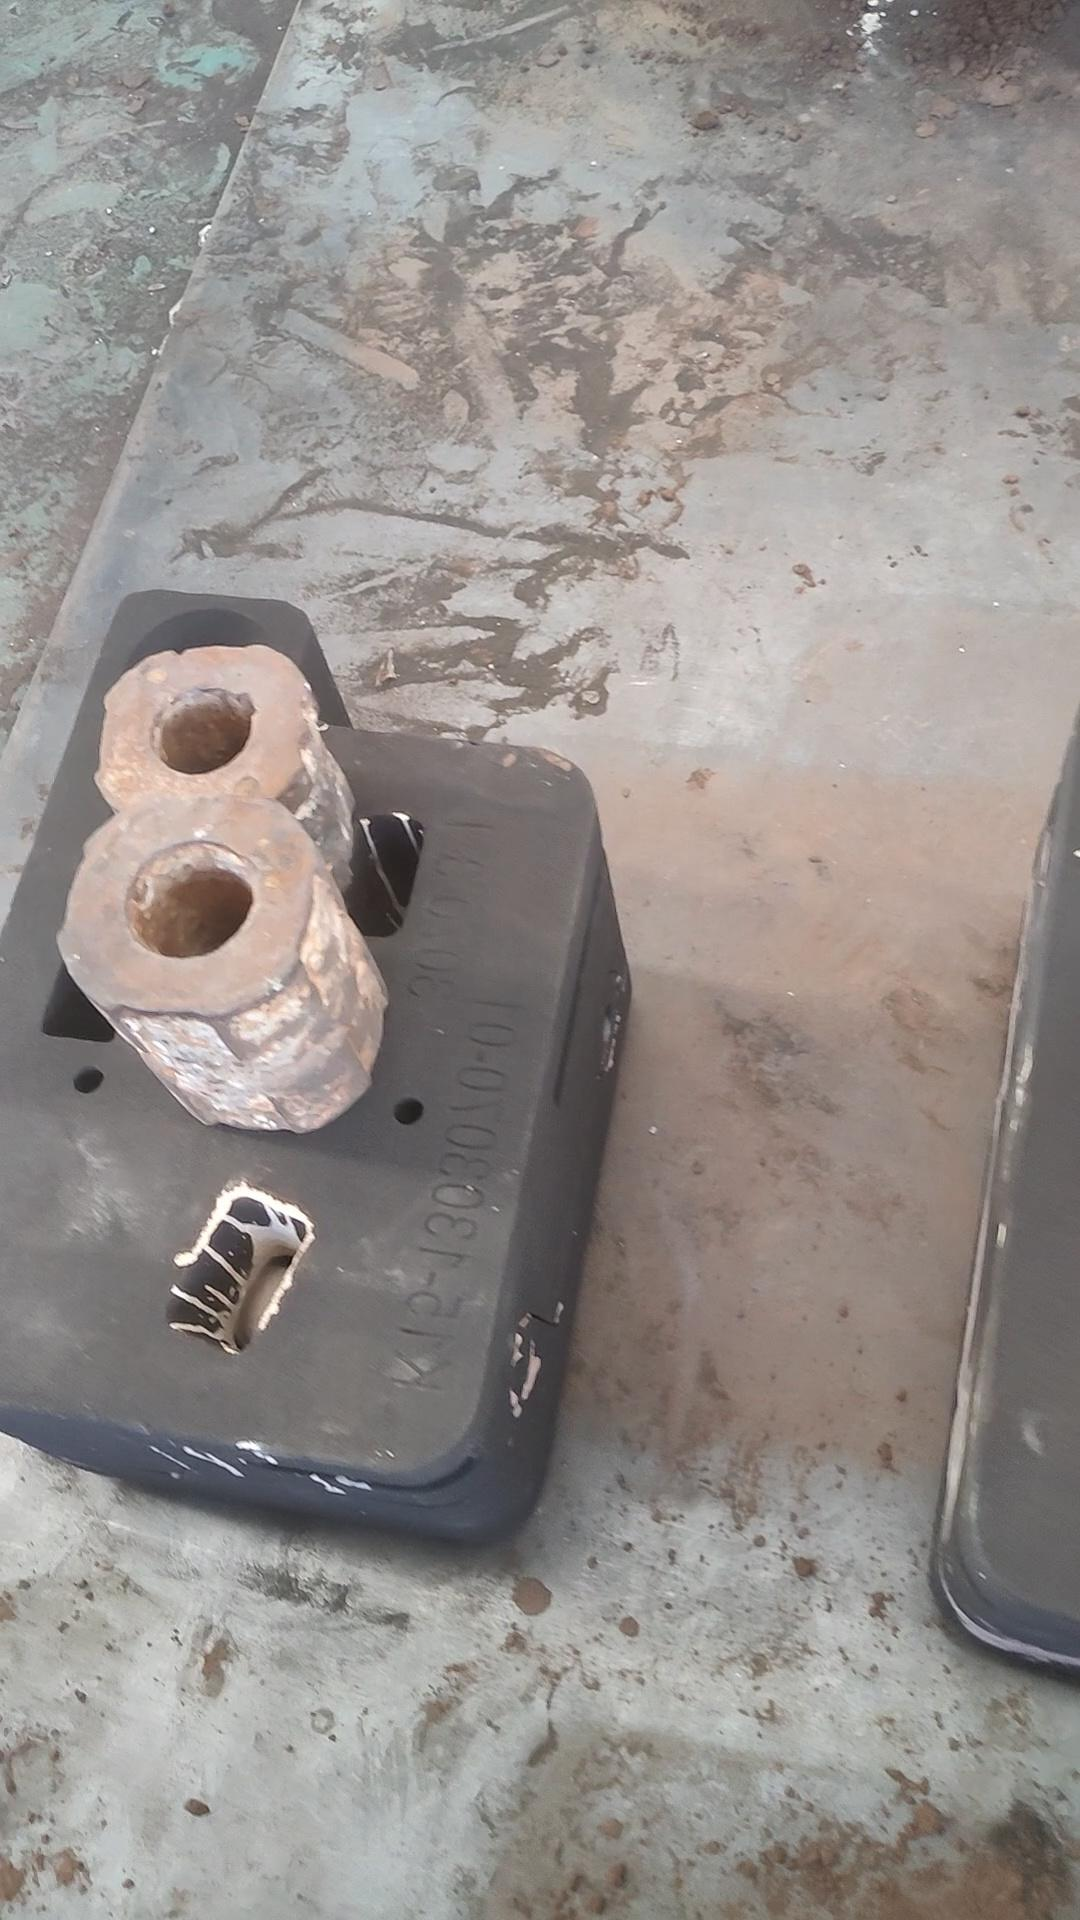pouring hole: (121, 608, 276, 727)
